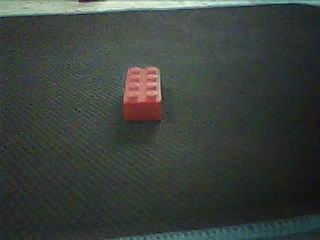lego: (121, 65, 161, 125)
